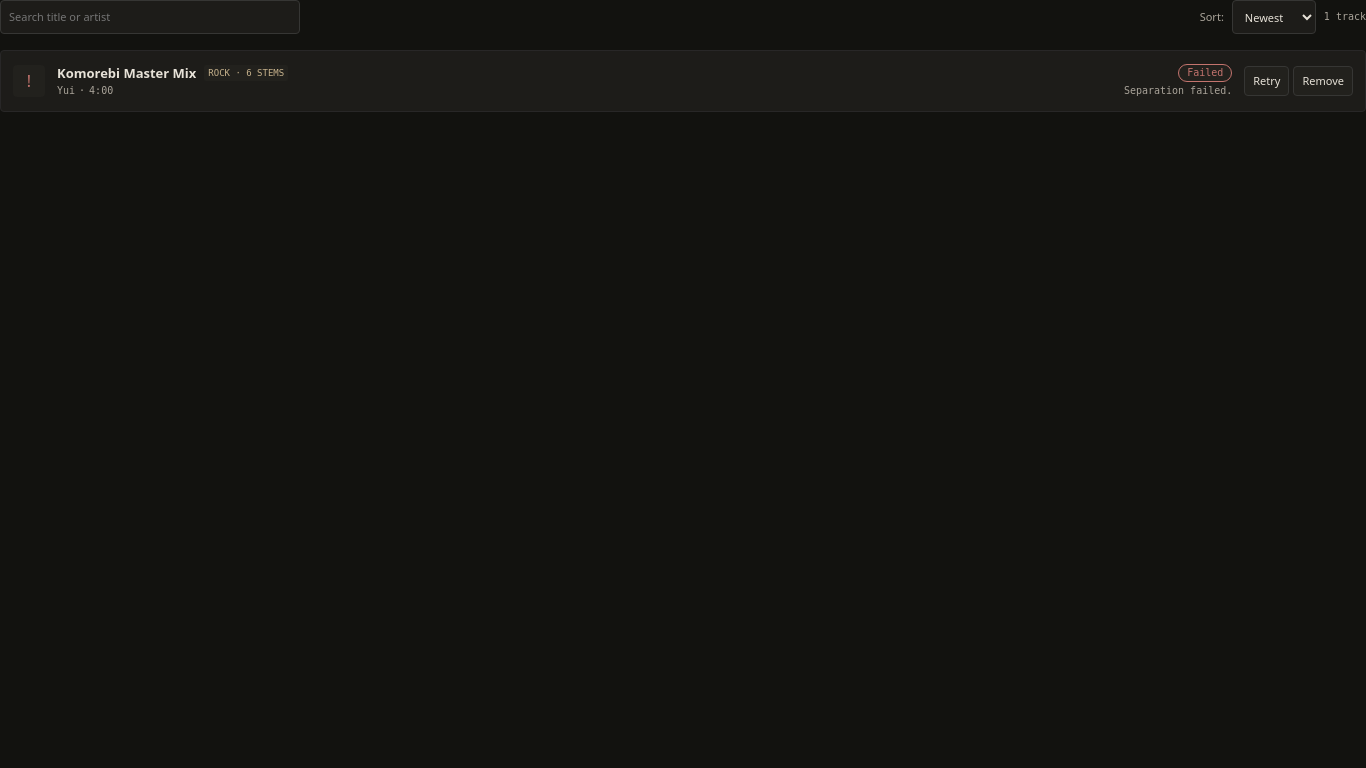
Test: remove reflects an unavailable refusal when the stem-store delete fails
Click the button with class "track-row-remove". click: (1323,81)
box: [1293,66,1353,96]
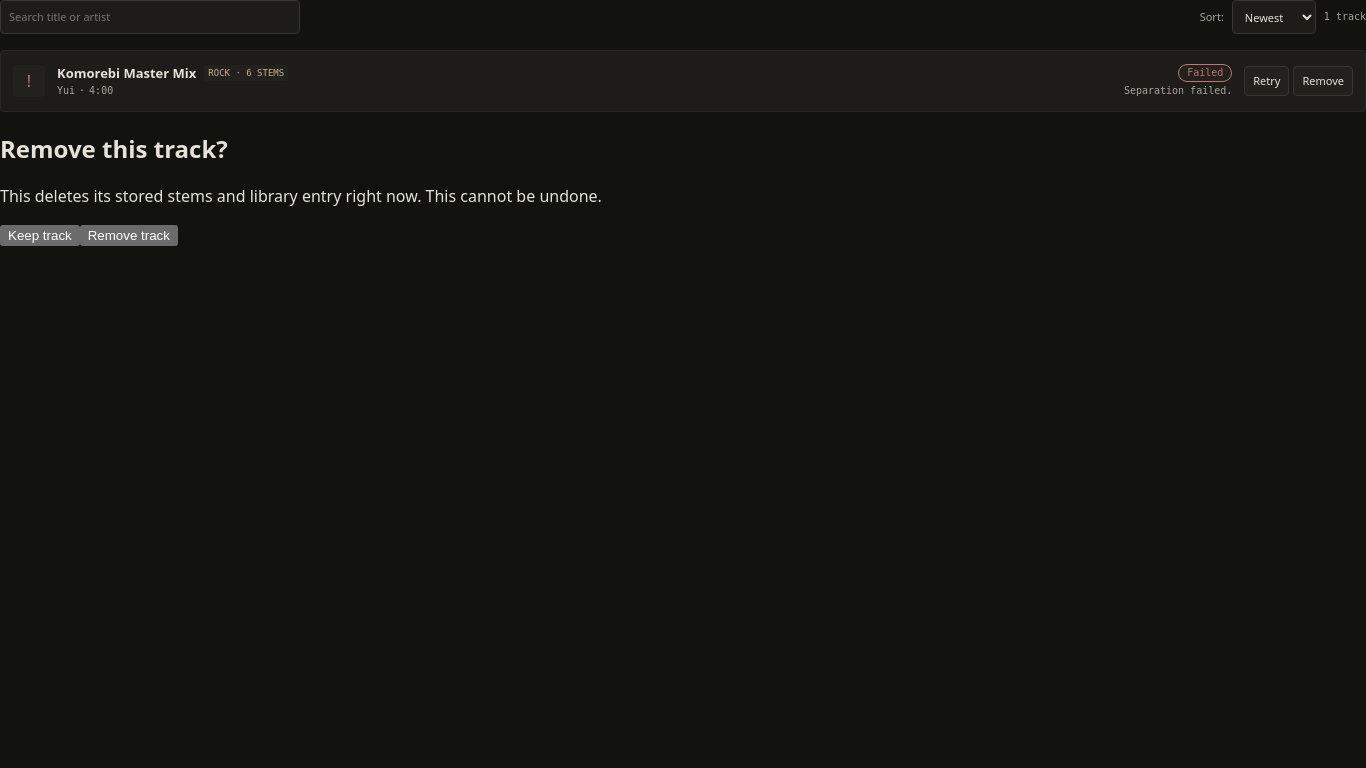
Click the button with class "dialog-primary". click: (129,235)
box: [80,225,178,246]
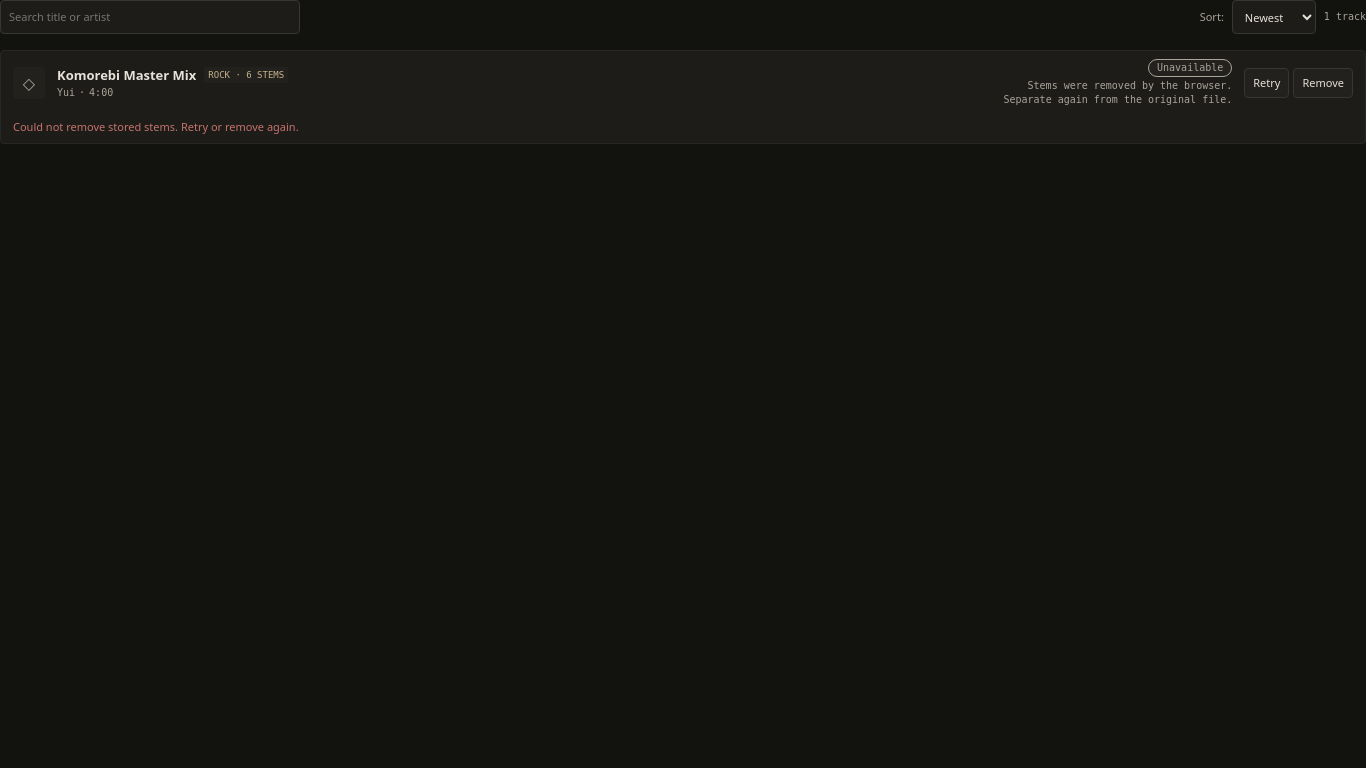
expect the message with class "track-row-error" shows "Could not remove": met, box [13,119,299,134]
